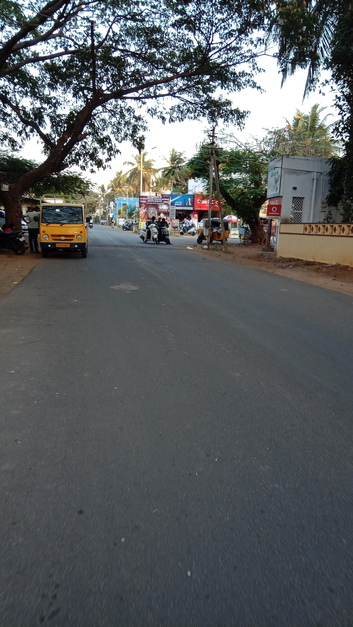bump: (89, 240, 190, 252)
